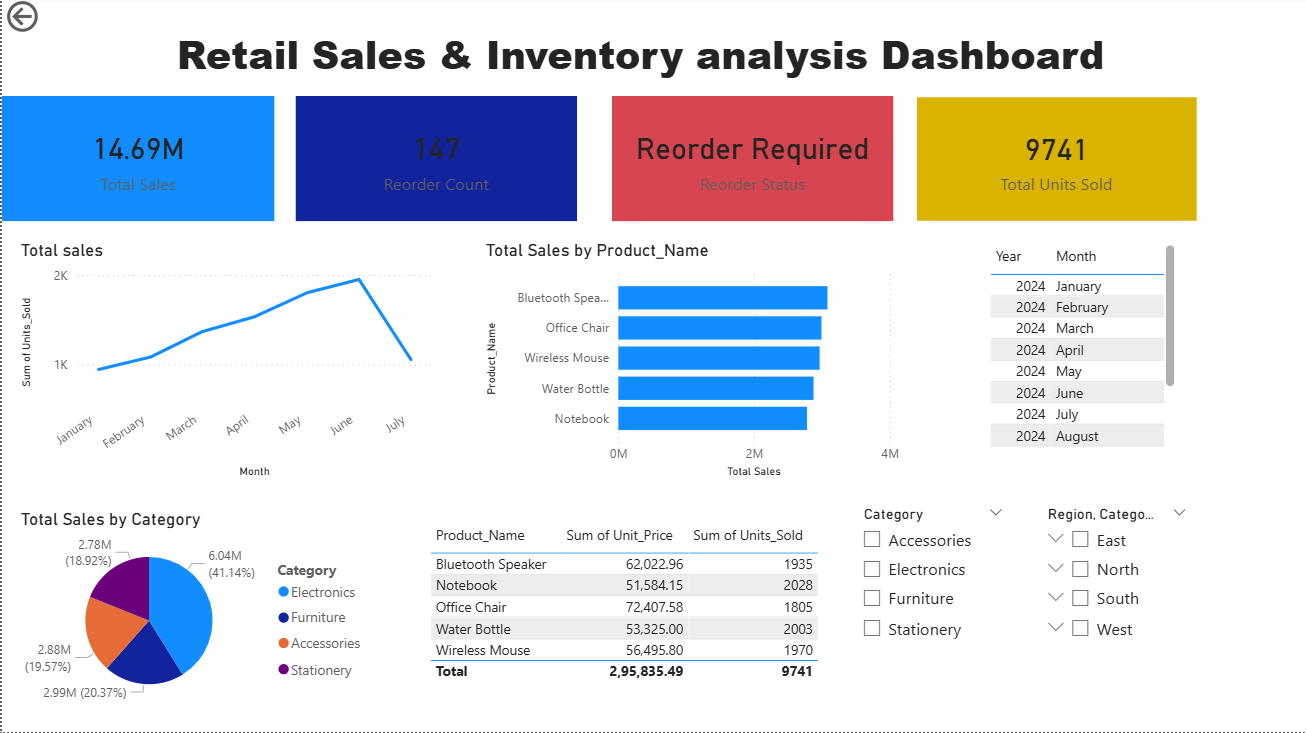

The page's visual inventory and layout, read from the dashboard file:
{"tool":"powerbi","page":{"name":"Page 1","canvas":[1280,720],"ordinal":0},"visuals":[{"type":"card","fields":{"Values":["Retail_Data.Total Sales"]},"box":[0,97.8,266.7,122.2],"z":0},{"type":"card","fields":{"Values":["Retail_Data.Reorder Count"]},"box":[287.8,97.8,275.6,122.2],"z":1000},{"type":"card","fields":{"Values":["Retail_Data.Total Units Sold"]},"box":[895.6,98.9,273.3,121.1],"z":2000},{"type":"card","fields":{"Values":["Retail_Data.Reorder Status"]},"box":[596.7,97.8,275.6,122.2],"z":3000},{"type":"textbox","box":[166.7,25.6,923.3,72.2],"z":4000},{"type":"lineChart","title":"Total sales","fields":{"Category":["Retail_Data.Date.Variation.Date Hierarchy.Month"],"Y":["Sum(Retail_Data.Units_Sold)"]},"box":[13.3,238.9,412.2,237.8],"z":5000},{"type":"clusteredBarChart","fields":{"Category":["Retail_Data.Product_Name"],"Y":["Retail_Data.Total Sales"]},"box":[467.8,238.9,414.4,237.8],"z":6000},{"type":"pieChart","fields":{"Category":["Retail_Data.Category"],"Y":["Retail_Data.Total Sales"]},"box":[13.3,501.1,351.1,198.9],"z":7000},{"type":"tableEx","fields":{"Values":["Retail_Data.Product_Name","Sum(Retail_Data.Unit_Price)","Sum(Retail_Data.Units_Sold)"]},"box":[413.3,511.1,401.1,197.8],"z":8000},{"type":"actionButton","box":[0,0,100,40],"z":9000},{"type":"slicer","fields":{"Values":["Retail_Data.Region","Retail_Data.Category"]},"box":[1010,493.3,161.1,197.8],"z":10000},{"type":"slicer","fields":{"Values":["Retail_Data.Category"]},"box":[830,493.3,161.1,198.9],"z":11000},{"type":"tableEx","fields":{"Values":["Retail_Data.Date.Variation.Date Hierarchy.Year","Retail_Data.Date.Variation.Date Hierarchy.Month"]},"box":[961.1,238.9,191.1,212.2],"z":12000}]}

Visuals, with their boxes in screenshot pixels (x1, y1, x2, y2), scaled from the page's 1280x720 canvas onto the 1306x733 screenshot:
card - Retail_Data.Total Sales: crop(0, 100, 272, 224)
card - Retail_Data.Reorder Count: crop(294, 100, 575, 224)
card - Retail_Data.Total Units Sold: crop(914, 101, 1193, 224)
card - Retail_Data.Reorder Status: crop(609, 100, 890, 224)
textbox: crop(170, 26, 1112, 100)
"Total sales" lineChart: crop(14, 243, 434, 485)
clusteredBarChart - Retail_Data.Product_Name x Retail_Data.Total Sales: crop(477, 243, 900, 485)
pieChart - Retail_Data.Category x Retail_Data.Total Sales: crop(14, 510, 372, 713)
tableEx - Retail_Data.Product_Name x Sum(Retail_Data.Unit_Price): crop(422, 520, 831, 722)
actionButton: crop(0, 0, 102, 41)
slicer - Retail_Data.Region x Retail_Data.Category: crop(1031, 502, 1195, 704)
slicer - Retail_Data.Category: crop(847, 502, 1011, 705)
tableEx - Retail_Data.Date.Variation.Date Hierarchy.Year x Retail_Data.Date.Variation.Date Hierarchy.Month: crop(981, 243, 1176, 459)
